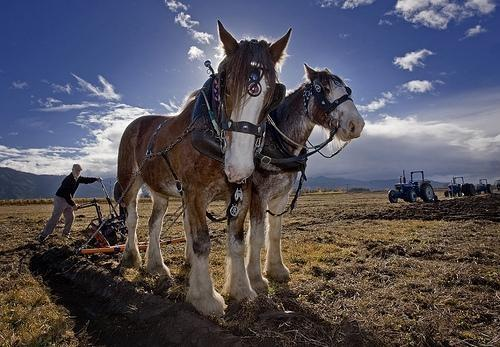truck: (387, 168, 435, 204), (444, 176, 476, 196), (476, 178, 493, 194)
